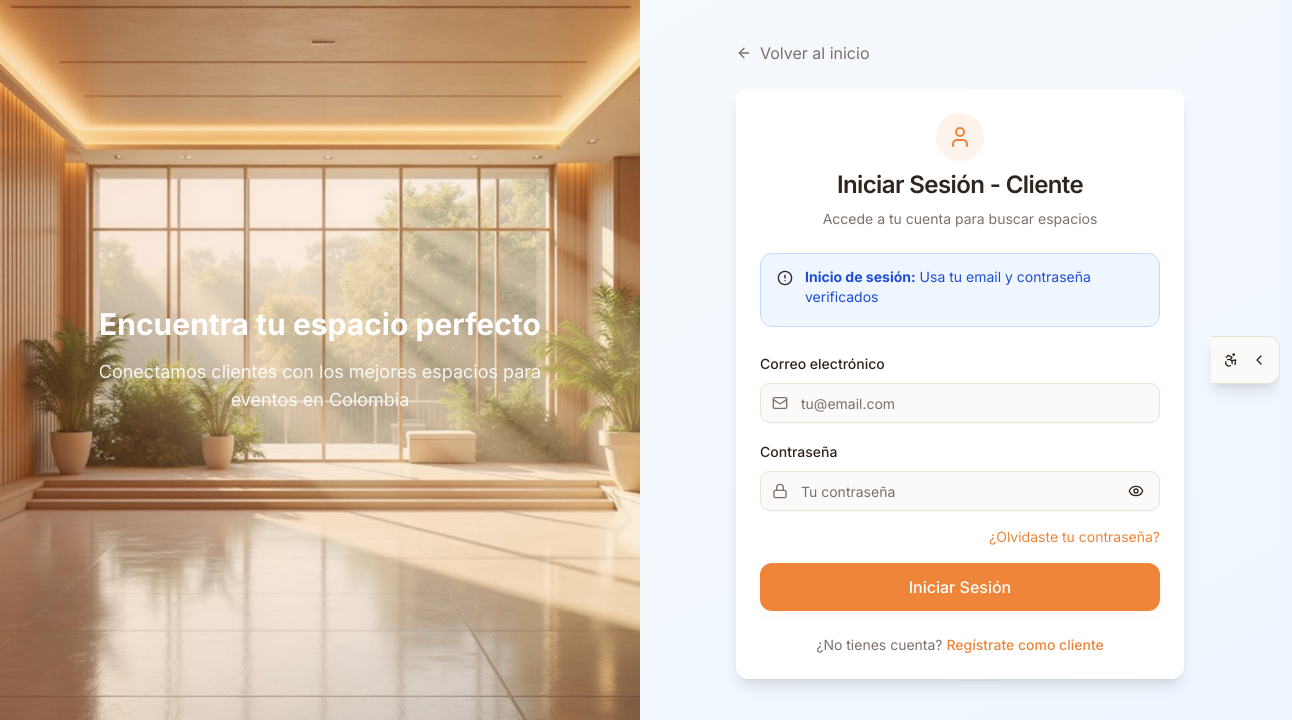
Client Login - Tests de Inicio de Sesión › Validación del Formulario › debe validar longitud mínima de contraseña
Type "test@example.com" into the field with id "email" at (960, 403), box x1=760 y1=383 x2=1160 y2=423
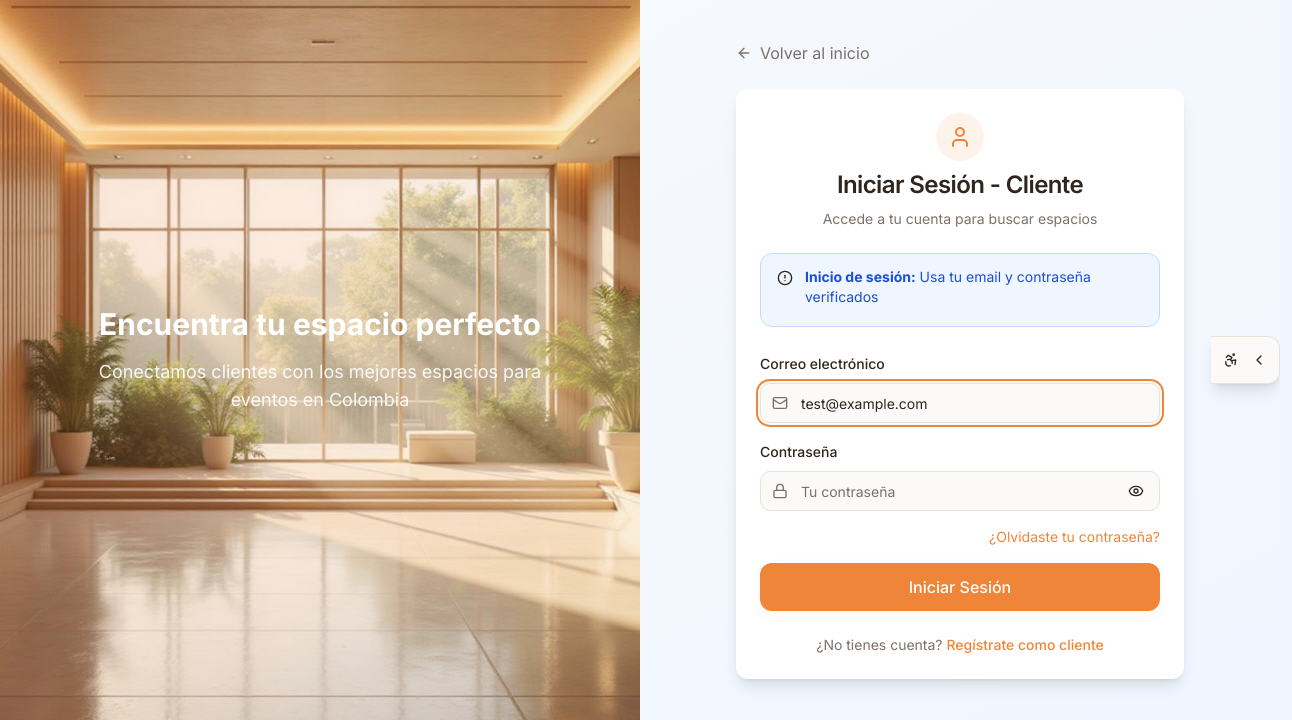
Type "12345" into the password field labelled "Contraseña" at (960, 491), box x1=760 y1=471 x2=1160 y2=511
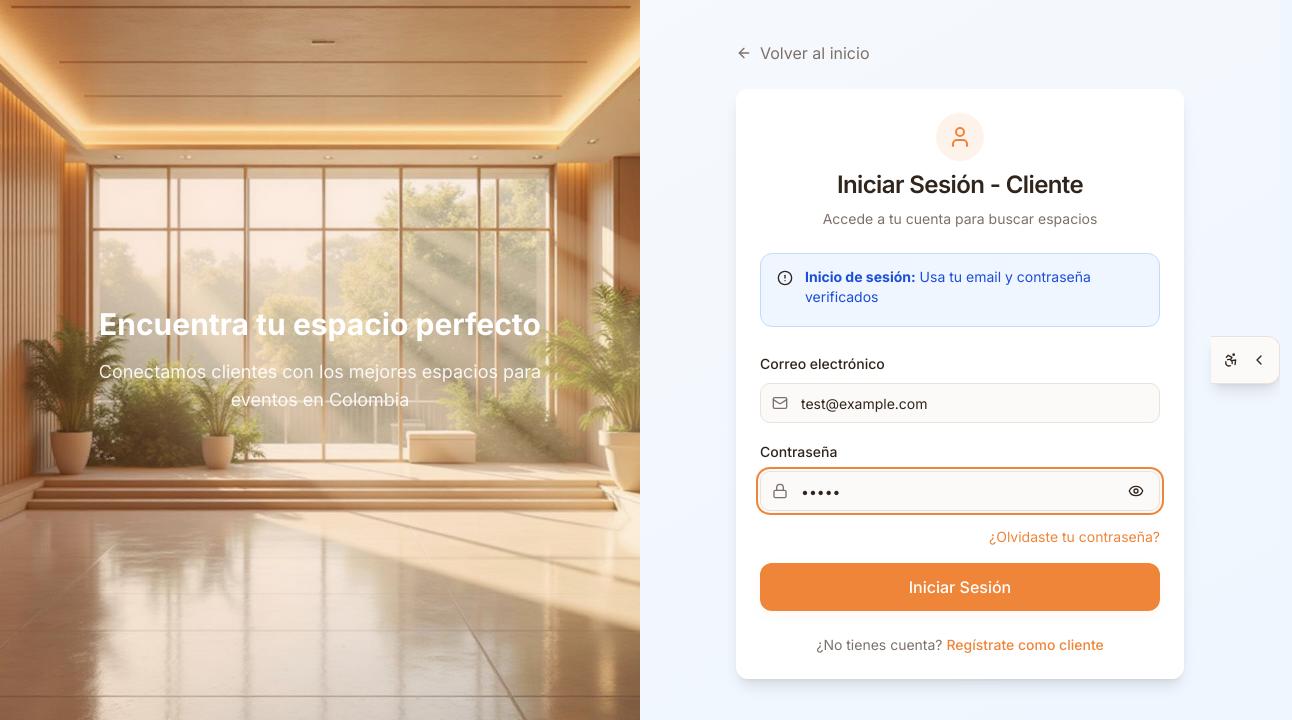
Click the submit button at (960, 587), box x1=760 y1=563 x2=1160 y2=611
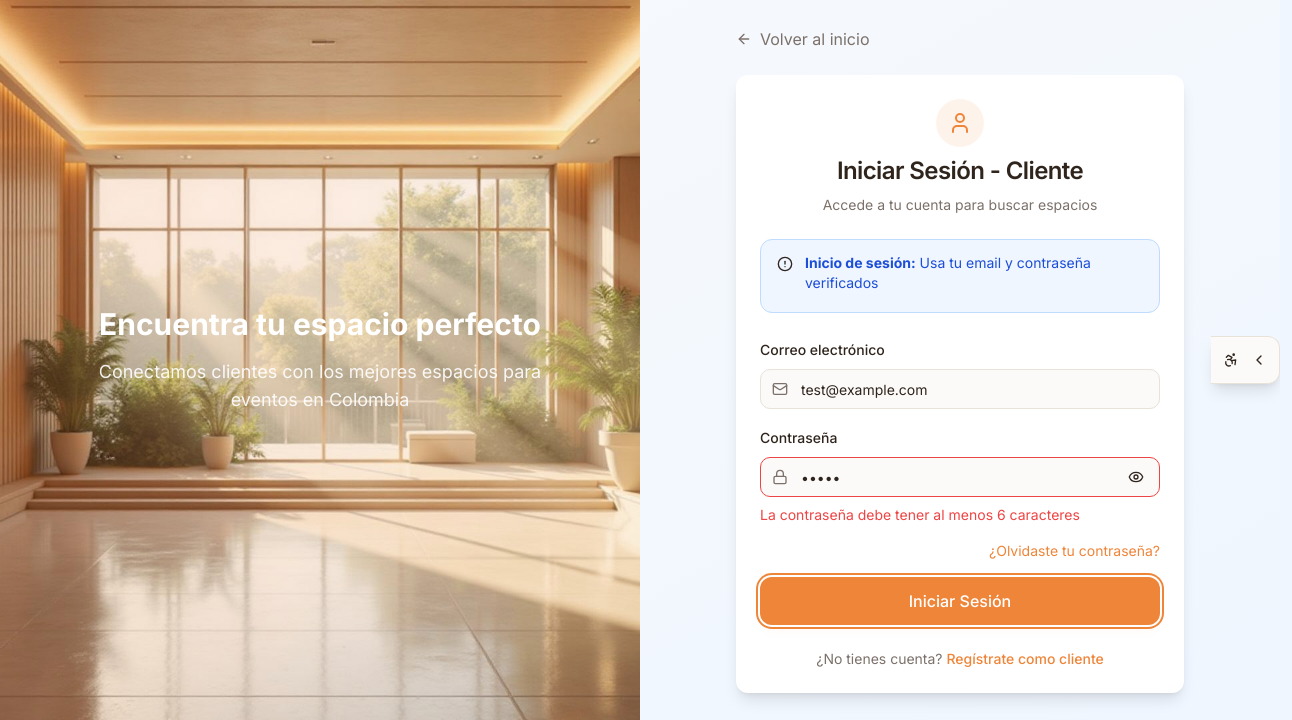
Expected: the text "La contraseña debe tener al menos 6 caracteres" is shown, x1=760 y1=506 x2=1080 y2=523
